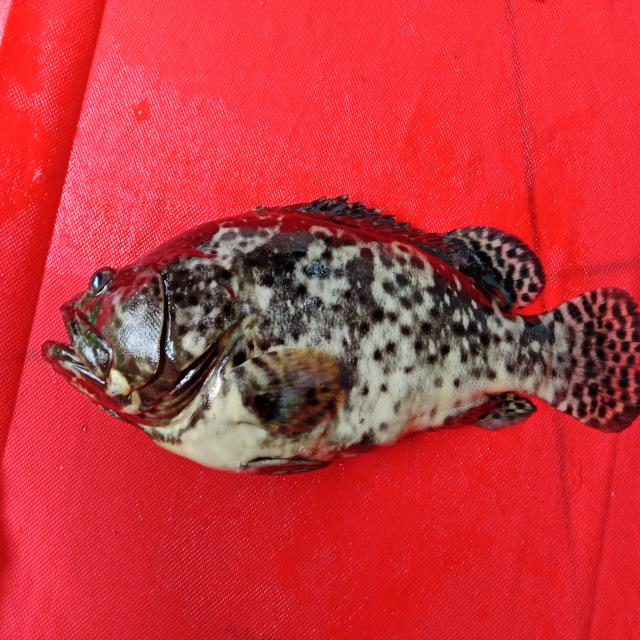ikan: (20, 166, 627, 492)
